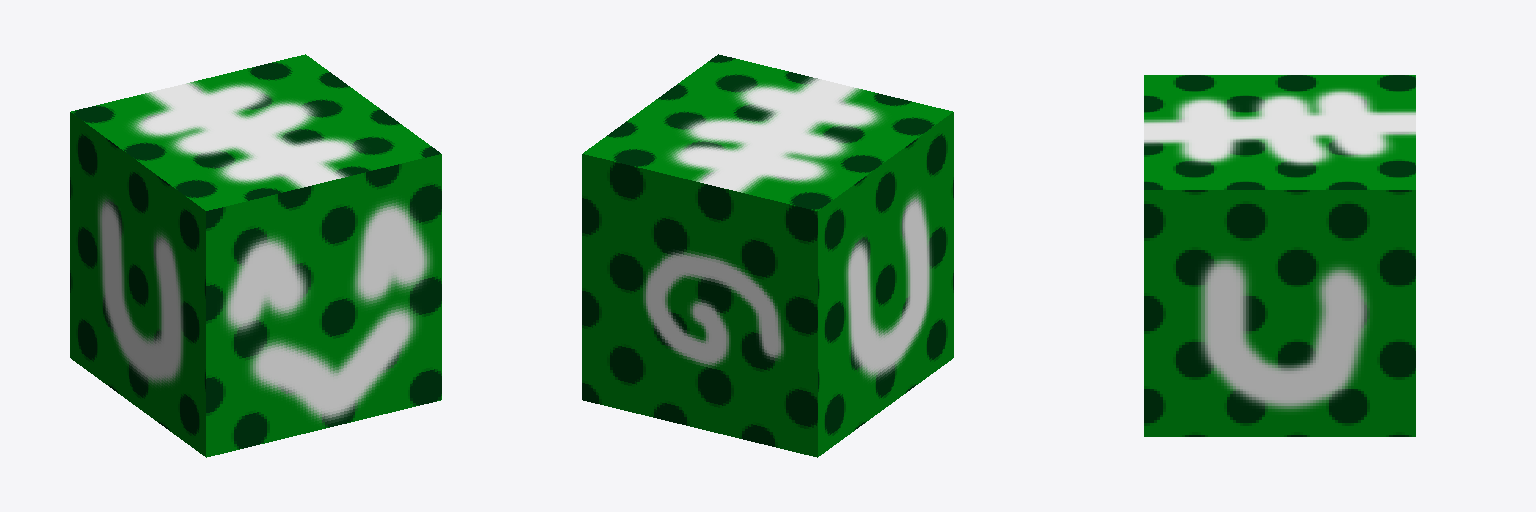
3 renders of one model, left to right at view 1: azimuth 30°, elevation 25°; view 2: azimuth 150°, elevation 25°; view 3: azimuth 270°, elevation 25°, orthographic.
Visible parts, largest first — view 1: Cube; view 2: Cube; view 3: Cube.
Boxes of the visible parts, <box> form: Cube: <box>70,54,441,457</box>; Cube: <box>582,54,953,457</box>; Cube: <box>1144,75,1415,436</box>.
Size of the model in its own units: 2 by 2 by 2.
Materials: 1 (1 with a texture image).